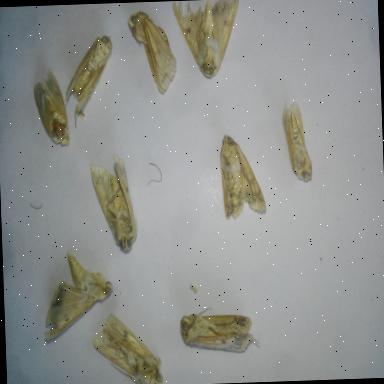abw: (36, 247, 116, 346), (88, 307, 166, 384), (84, 152, 140, 258), (171, 0, 243, 82), (124, 6, 182, 98), (60, 28, 118, 118), (176, 302, 264, 359), (216, 130, 269, 222), (28, 68, 73, 152), (278, 96, 318, 186)
